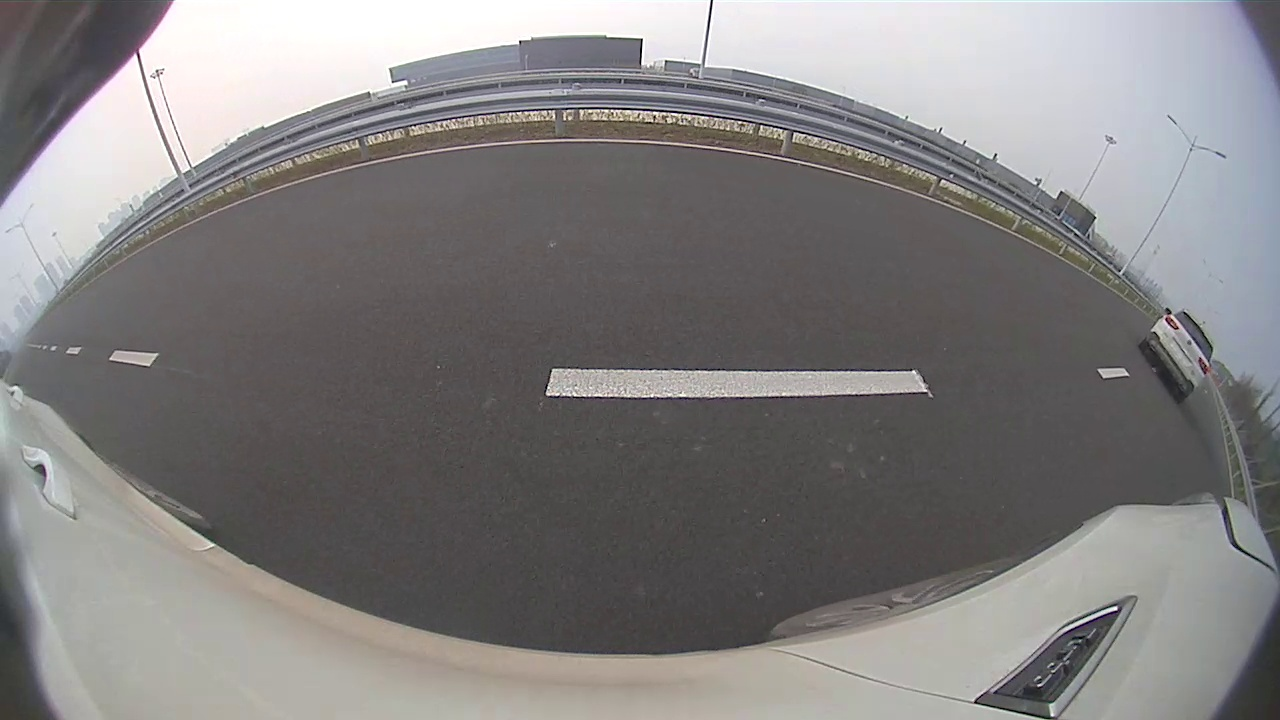car: (1139, 309, 1214, 404)
